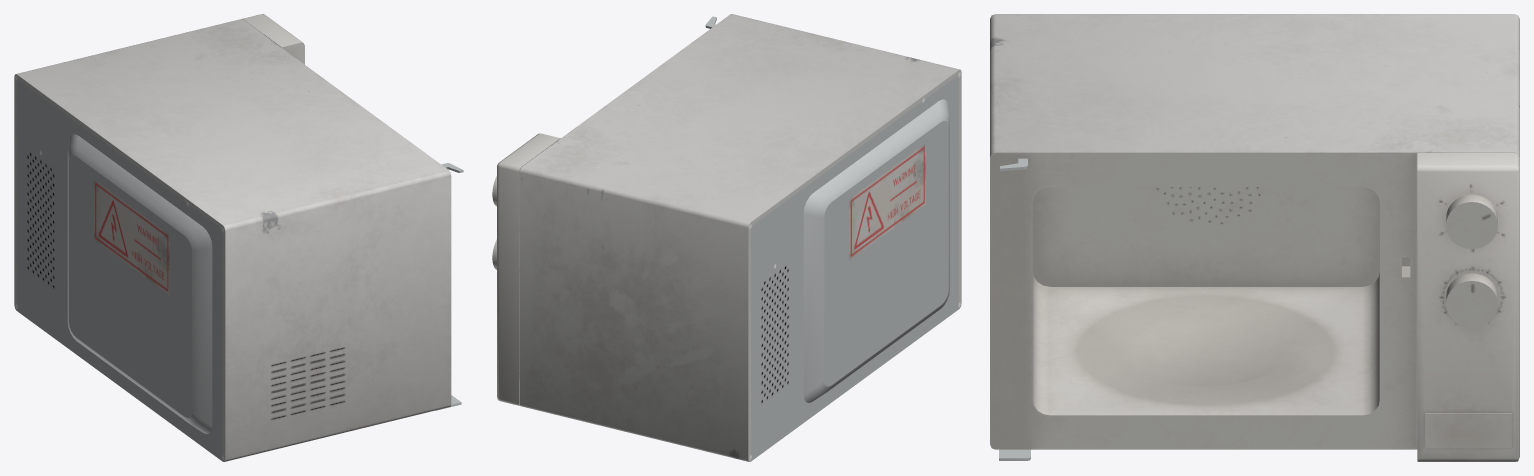
The model's file is meshId2_name.dae.
3 views of the same model, side by side, from view 1: azimuth 30°, elevation 25°; view 2: azimuth 150°, elevation 25°; view 3: azimuth 270°, elevation 25° (orthographic). The views are drawn at different scales.
Visible parts, largest first — view 1: Oven; view 2: Oven; view 3: Oven.
Boxes of the visible parts, <box> form: Oven: <box>14,14,463,461</box>; Oven: <box>492,14,961,461</box>; Oven: <box>990,14,1519,461</box>.
Size of the model in its own units: 0.3893 by 0.5226 by 0.33.
Materials: 1 (1 with a texture image).
